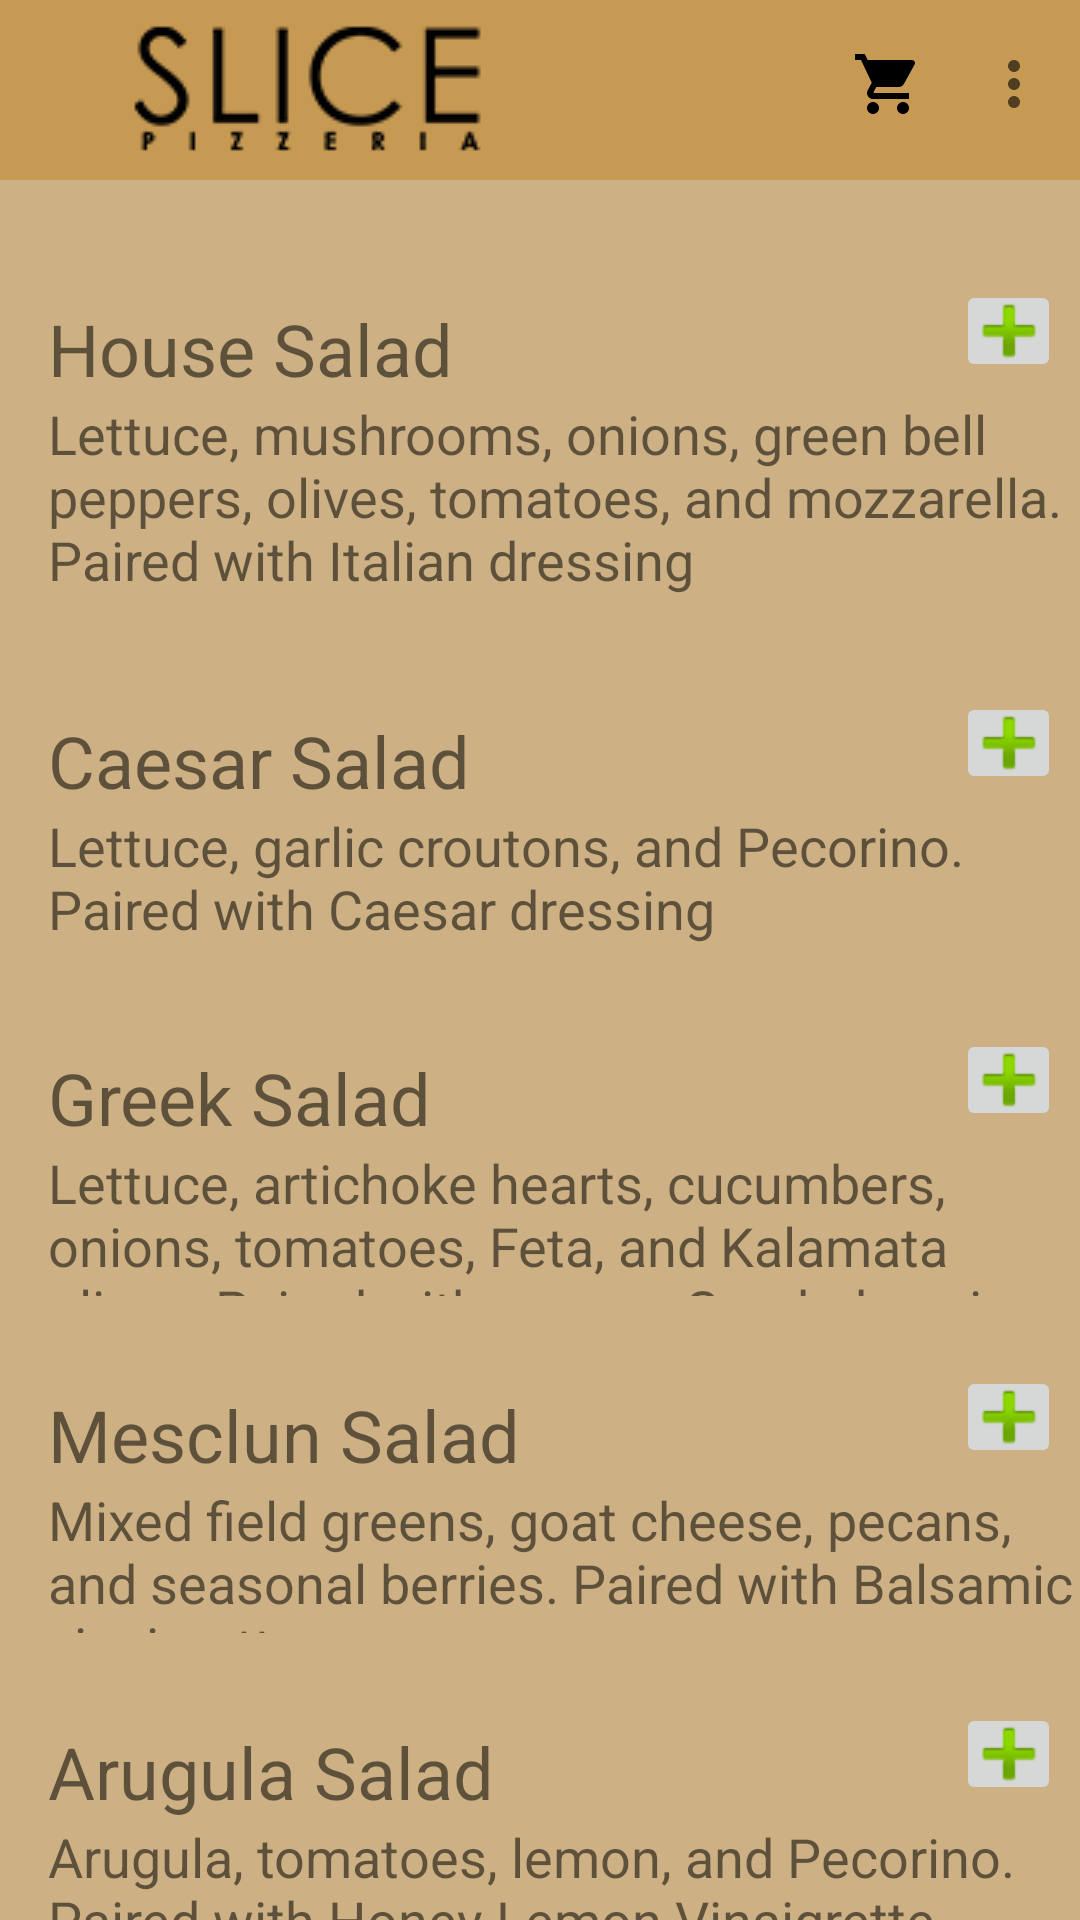

Where icons sit on this 1080×1920 app screen, as bbox=(x1, y1, x2, y2):
add: bbox=(968, 298, 1049, 364), bbox=(968, 710, 1049, 776), bbox=(968, 1047, 1049, 1113), bbox=(968, 1384, 1049, 1450), bbox=(968, 1721, 1049, 1787)
